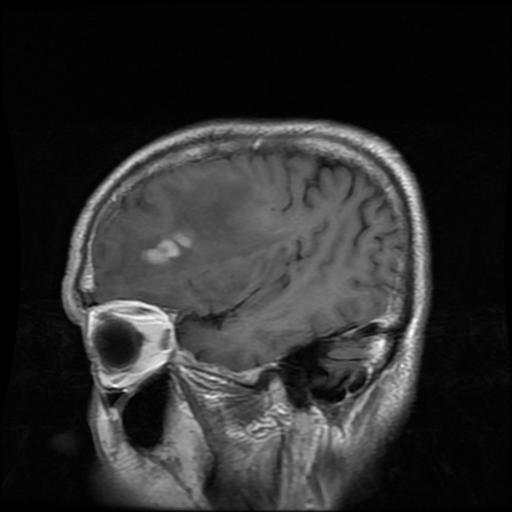Gliomia_tumour: (138, 228, 194, 264)
